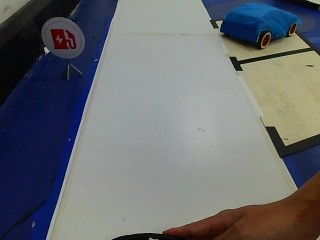battery: (38, 19, 81, 58)
car: (221, 0, 299, 51)
